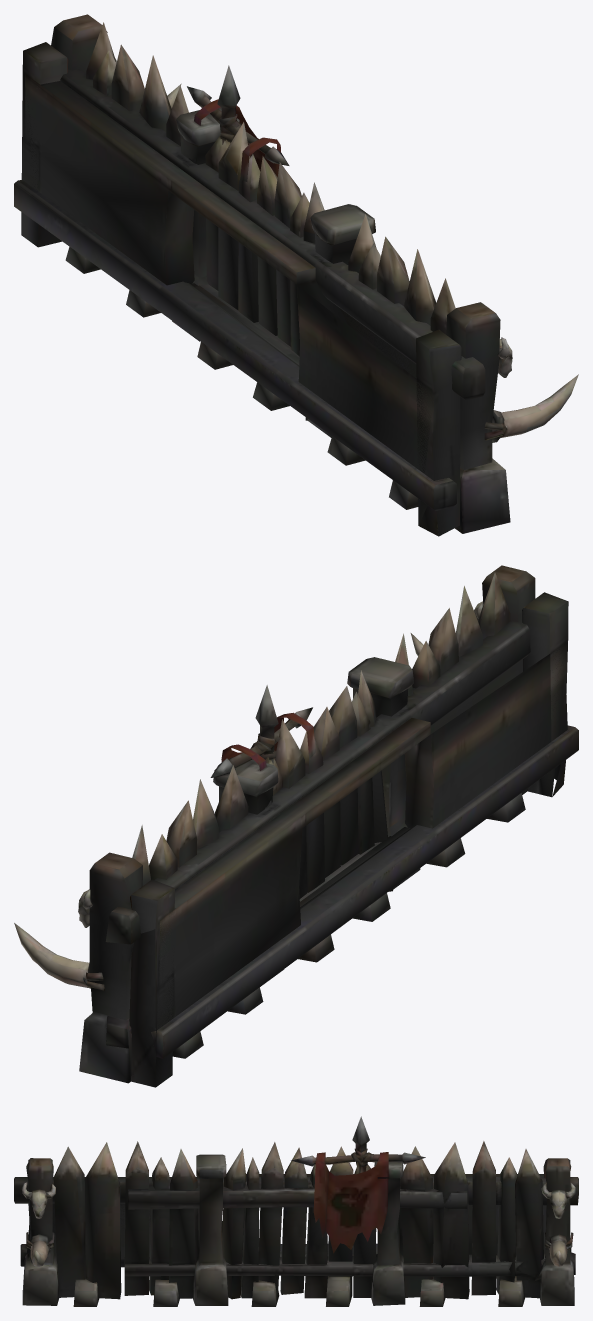
The model's file is orkadia_palisade.glb.
The picture shows the model from 3 angles, top to bottom: view 1: azimuth 30°, elevation 25°; view 2: azimuth 150°, elevation 25°; view 3: azimuth 270°, elevation 25°; orthographic projection. The views are drawn at different scales.
Visible parts, largest first — view 1: tripo_node_bb721ad1-9d07-4b62-973f-6374e1fa98e7; view 2: tripo_node_bb721ad1-9d07-4b62-973f-6374e1fa98e7; view 3: tripo_node_bb721ad1-9d07-4b62-973f-6374e1fa98e7.
Boxes of the visible parts, x1=… form: tripo_node_bb721ad1-9d07-4b62-973f-6374e1fa98e7: x1=14, y1=14, x2=578, y2=536; tripo_node_bb721ad1-9d07-4b62-973f-6374e1fa98e7: x1=14, y1=565, x2=578, y2=1087; tripo_node_bb721ad1-9d07-4b62-973f-6374e1fa98e7: x1=14, y1=1116, x2=578, y2=1306.
Size of the model in its own units: 3.01 by 5 by 14.12.
Materials: 1 (1 with a texture image).
